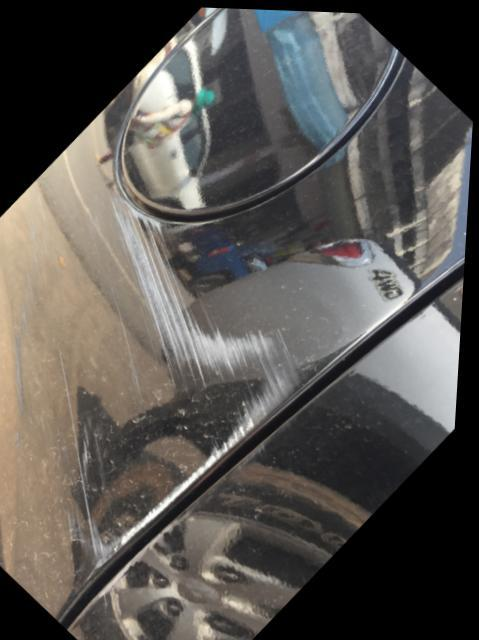scratch: (36, 186, 318, 580)
